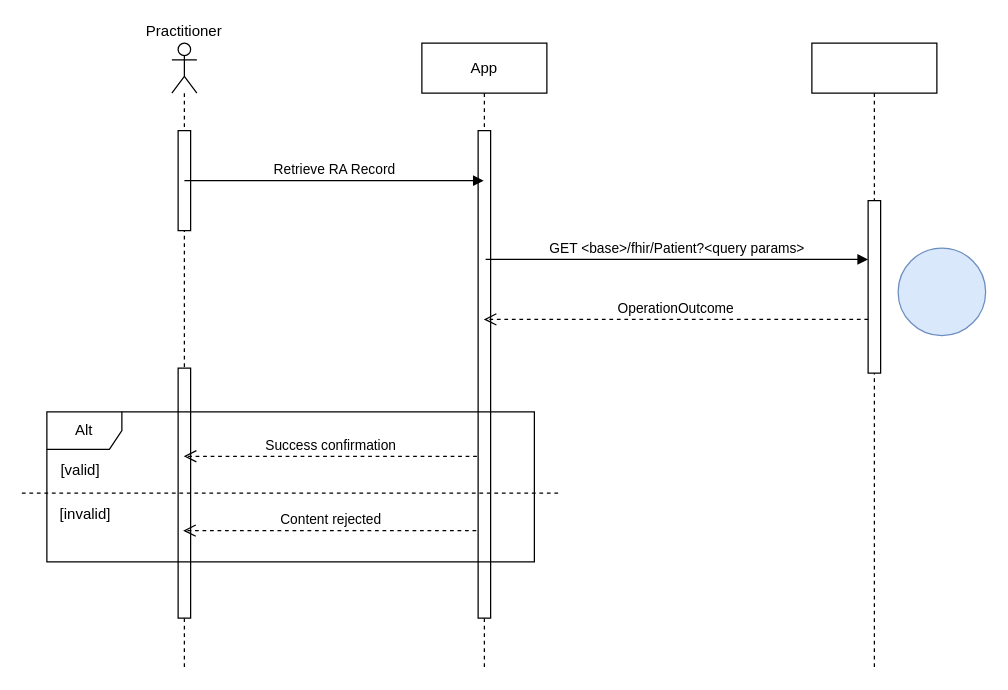
The diagram is 1008 pixels wide and 690 high, and some of its shapes have lost their labels. The centre of each missing label's shape, as x and y in pixels:
"API" belongs at pixel 874 355.
"Example 1" belongs at pixel 941 291.
